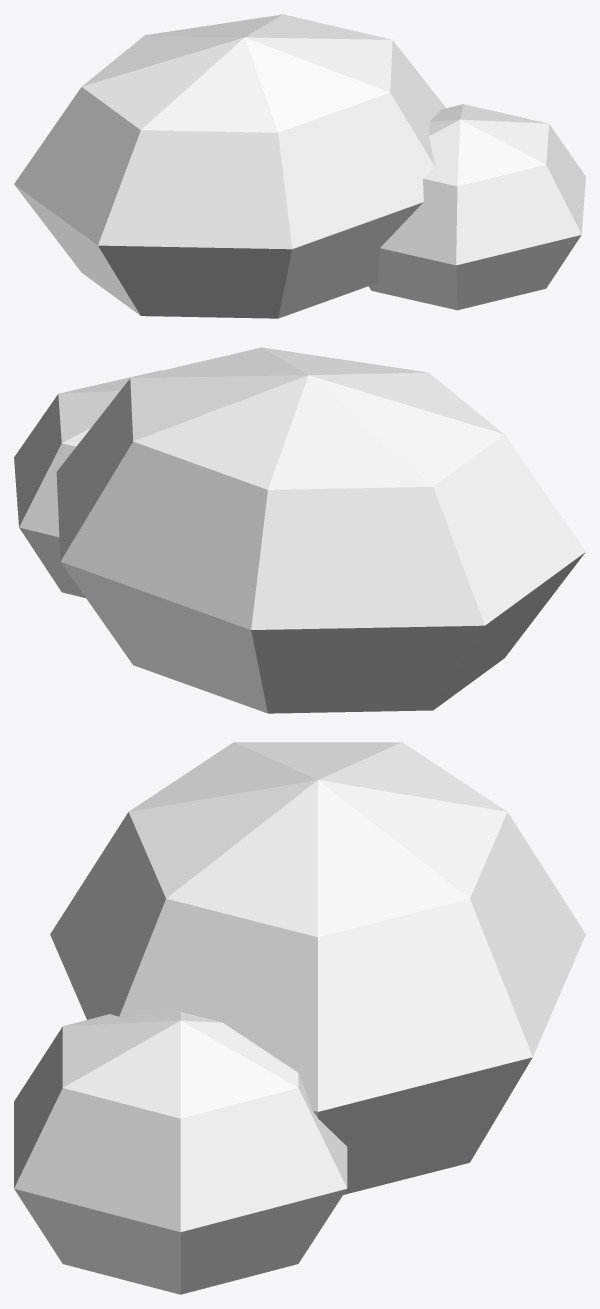
Rendered from sasso.obj.
The picture shows the model from 3 angles, top to bottom: view 1: azimuth 30°, elevation 25°; view 2: azimuth 150°, elevation 25°; view 3: azimuth 270°, elevation 25°; orthographic projection. The views are drawn at different scales.
Visible parts, largest first — view 1: roccia_000, roccia_001; view 2: roccia_000, roccia_001; view 3: roccia_000, roccia_001.
Part boxes in pixels (x1,y1,x2,y2): roccia_000: (14,14,445,318); roccia_001: (368,104,585,310); roccia_000: (56,347,585,713); roccia_001: (14,370,162,597); roccia_000: (50,742,585,1194); roccia_001: (14,1011,347,1294).
Bounding box in the file's own units: 1.15 × 0.6 × 0.8325.
Materials: 2 (2 with a texture image).
